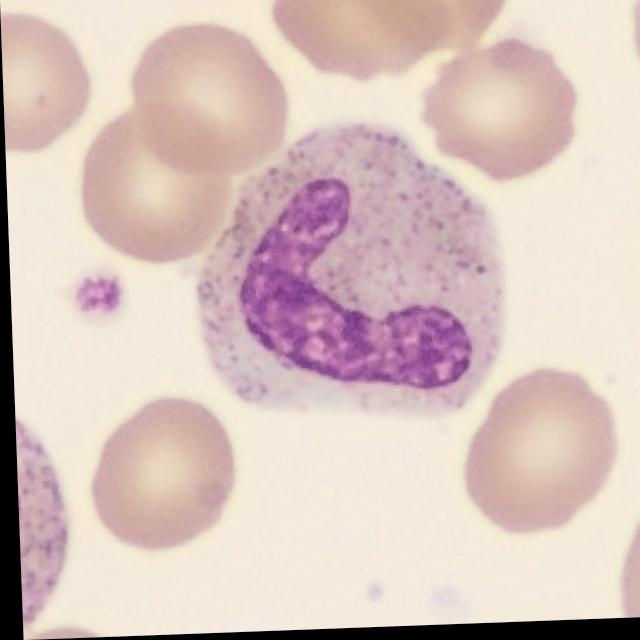Neutrofilo segmentado: (192, 124, 504, 422)
